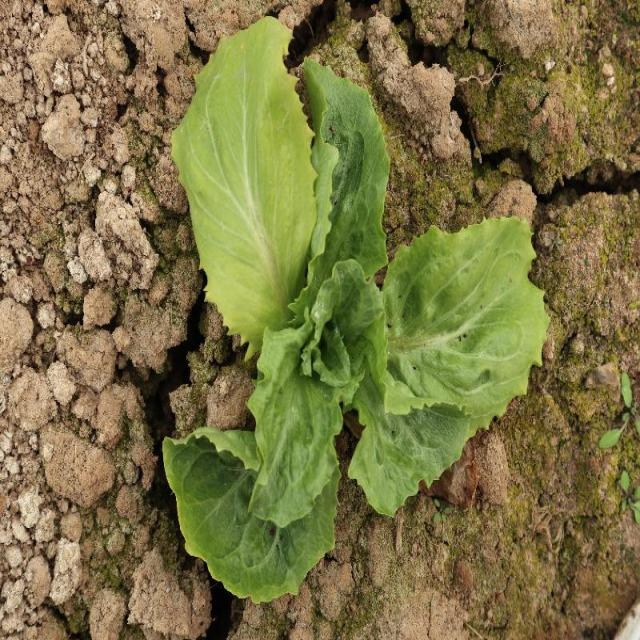crop: (164, 16, 545, 602)
